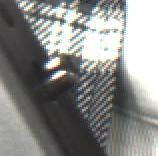screw: (29, 51, 81, 102)
